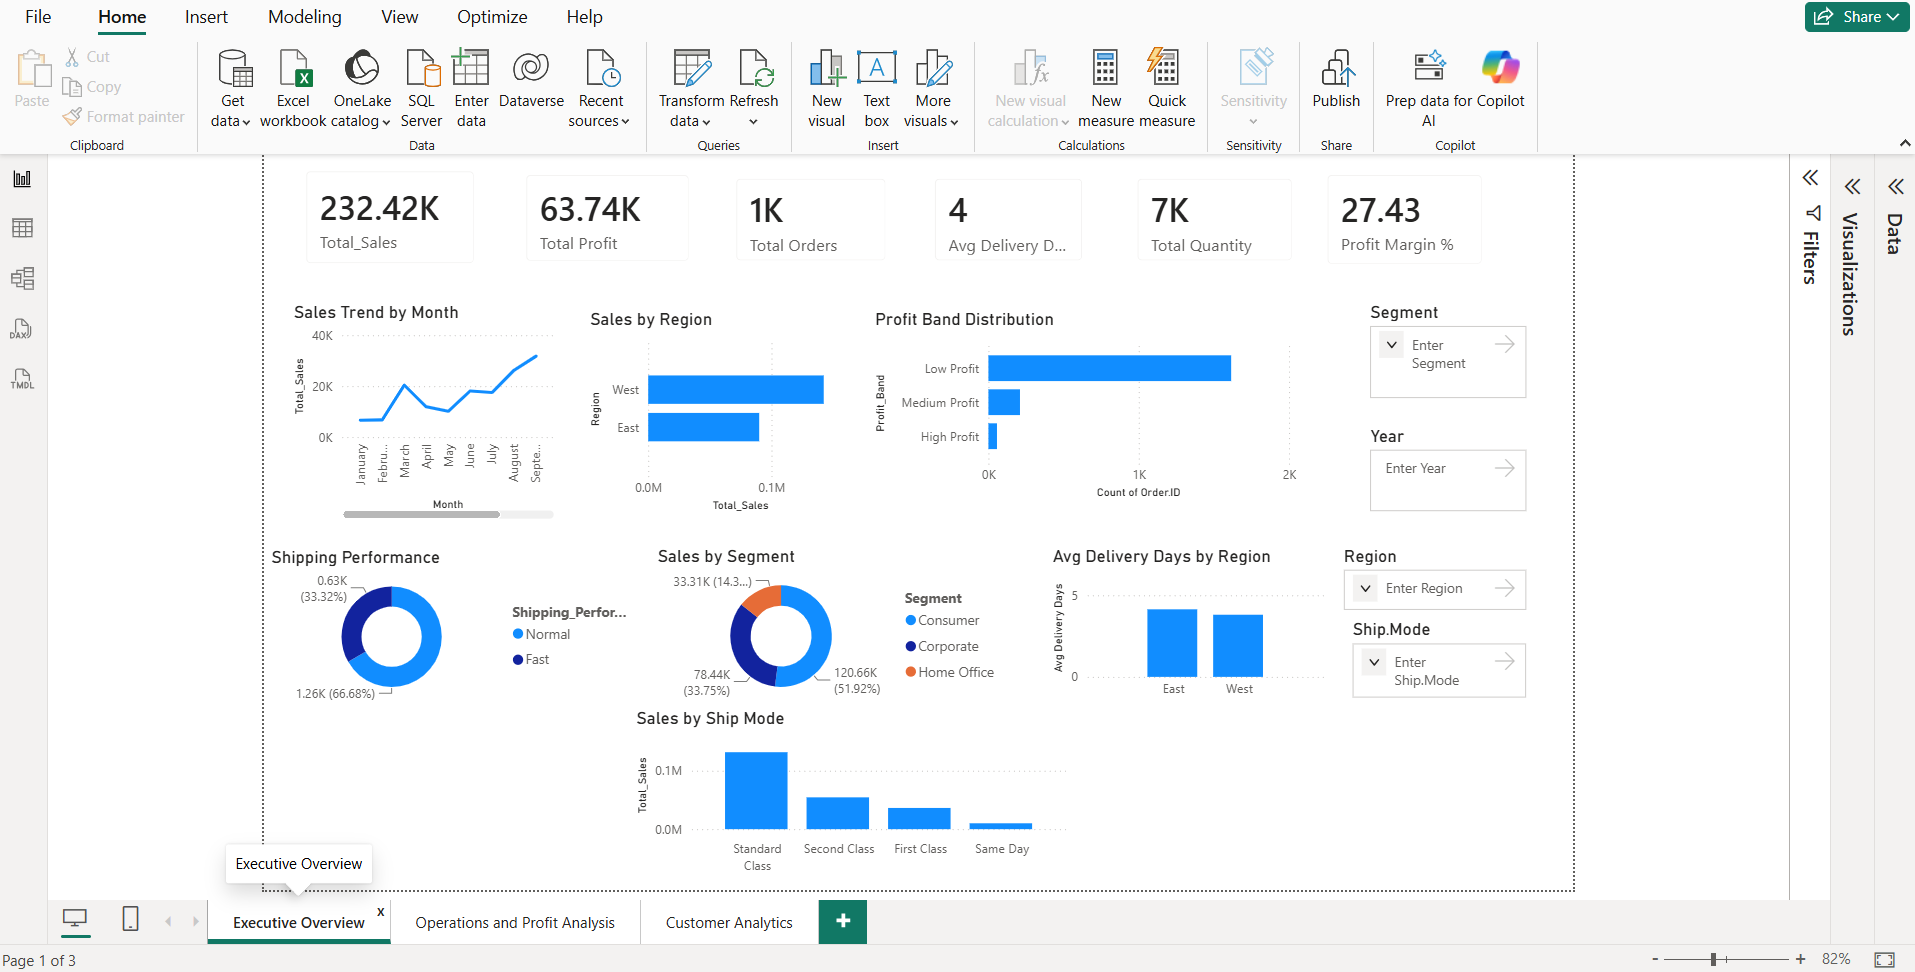

The page's visual inventory and layout, read from the dashboard file:
{"tool":"powerbi","page":{"name":"Executive  Overview","canvas":[1280,720],"ordinal":0},"visuals":[{"type":"cardVisual","fields":{"Data":["superstore (3).Total_Sales"]},"box":[24.5,0,198.1,124.7],"z":0},{"type":"cardVisual","fields":{"Data":["superstore (3).Total Profit"]},"box":[239.7,3.7,193.2,118.6],"z":1000},{"type":"cardVisual","fields":{"Data":["superstore (3).Total Orders"]},"box":[445.1,7.3,181,114.9],"z":2000},{"type":"cardVisual","fields":{"Data":["superstore (3).Total Quantity"]},"box":[837.6,7.3,185.9,114.9],"z":3000},{"type":"cardVisual","fields":{"Data":["superstore (3).Profit Margin %"]},"box":[1023.5,3.7,185.9,121.1],"z":4000},{"type":"cardVisual","fields":{"Data":["superstore (3).Avg Delivery Days"]},"box":[639.5,7.3,178.5,114.9],"z":5000},{"type":"lineChart","title":"Sales Trend by Month","fields":{"Category":["superstore (3).Order_Date.Variation.Date Hierarchy.Month"],"Y":["superstore (3).Total_Sales"]},"box":[24.5,144.3,264.1,217.7],"z":6000},{"type":"barChart","title":"Sales by Region","fields":{"Category":["superstore (3).Region"],"Y":["superstore (3).Total_Sales"]},"box":[314.3,151.6,261.7,203],"z":7000},{"type":"textSlicer","fields":{"Values":["superstore (3).Year"]},"box":[1077.3,265.4,162.6,89.3],"z":8000},{"type":"textSlicer","fields":{"Values":["superstore (3).Segment"]},"box":[1077.3,144.3,162.6,99],"z":9000},{"type":"donutChart","title":"Sales by Segment","fields":{"Category":["superstore (3).Segment"],"Y":["superstore (3).Total_Sales"]},"box":[380.3,382.7,348.5,159],"z":10000},{"type":"donutChart","title":" Shipping Performance","fields":{"Category":["superstore (3).Shipping_Performance"],"Y":["CountNonNull(superstore (3).Order.ID)"]},"box":[2.4,384,358.3,157.7],"z":11000},{"type":"barChart","title":"Profit Band Distribution","fields":{"Category":["superstore (3).Profit_Band"],"Y":["CountNonNull(superstore (3).Order.ID)"]},"box":[593.1,151.6,421.9,190.8],"z":12000},{"type":"clusteredColumnChart","fields":{"Category":["superstore (3).Region"],"Y":["superstore (3).Avg Delivery Days"]},"box":[766.7,382.7,276.4,159],"z":13000},{"type":"clusteredColumnChart","title":"Sales by Ship Mode","fields":{"Y":["superstore (3).Total_Sales"],"Category":["superstore (3).Ship.Mode"]},"box":[359.5,541.7,431.7,170],"z":14000},{"type":"textSlicer","fields":{"Values":["superstore (3).Region"]},"box":[1051.6,382.7,188.3,68.5],"z":15000},{"type":"textSlicer","fields":{"Values":["superstore (3).Ship.Mode"]},"box":[1060.2,454.9,179.8,77],"z":16000}]}

Visuals, with their boxes on the page's 1280x720 design canvas (x1, y1, x2, y2). These are canvas units, not pixel positions in the 1915x972 screenshot, which may show the page scaled, cropped or inside an application window:
cardVisual - superstore (3).Total_Sales: left=24, top=0, right=223, bottom=125
cardVisual - superstore (3).Total Profit: left=240, top=4, right=433, bottom=122
cardVisual - superstore (3).Total Orders: left=445, top=7, right=626, bottom=122
cardVisual - superstore (3).Total Quantity: left=838, top=7, right=1024, bottom=122
cardVisual - superstore (3).Profit Margin %: left=1024, top=4, right=1209, bottom=125
cardVisual - superstore (3).Avg Delivery Days: left=640, top=7, right=818, bottom=122
"Sales Trend by Month" lineChart: left=24, top=144, right=289, bottom=362
"Sales by Region" barChart: left=314, top=152, right=576, bottom=355
textSlicer - superstore (3).Year: left=1077, top=265, right=1240, bottom=355
textSlicer - superstore (3).Segment: left=1077, top=144, right=1240, bottom=243
"Sales by Segment" donutChart: left=380, top=383, right=729, bottom=542
" Shipping Performance" donutChart: left=2, top=384, right=361, bottom=542
"Profit Band Distribution" barChart: left=593, top=152, right=1015, bottom=342
clusteredColumnChart - superstore (3).Region x superstore (3).Avg Delivery Days: left=767, top=383, right=1043, bottom=542
"Sales by Ship Mode" clusteredColumnChart: left=360, top=542, right=791, bottom=712
textSlicer - superstore (3).Region: left=1052, top=383, right=1240, bottom=451
textSlicer - superstore (3).Ship.Mode: left=1060, top=455, right=1240, bottom=532
